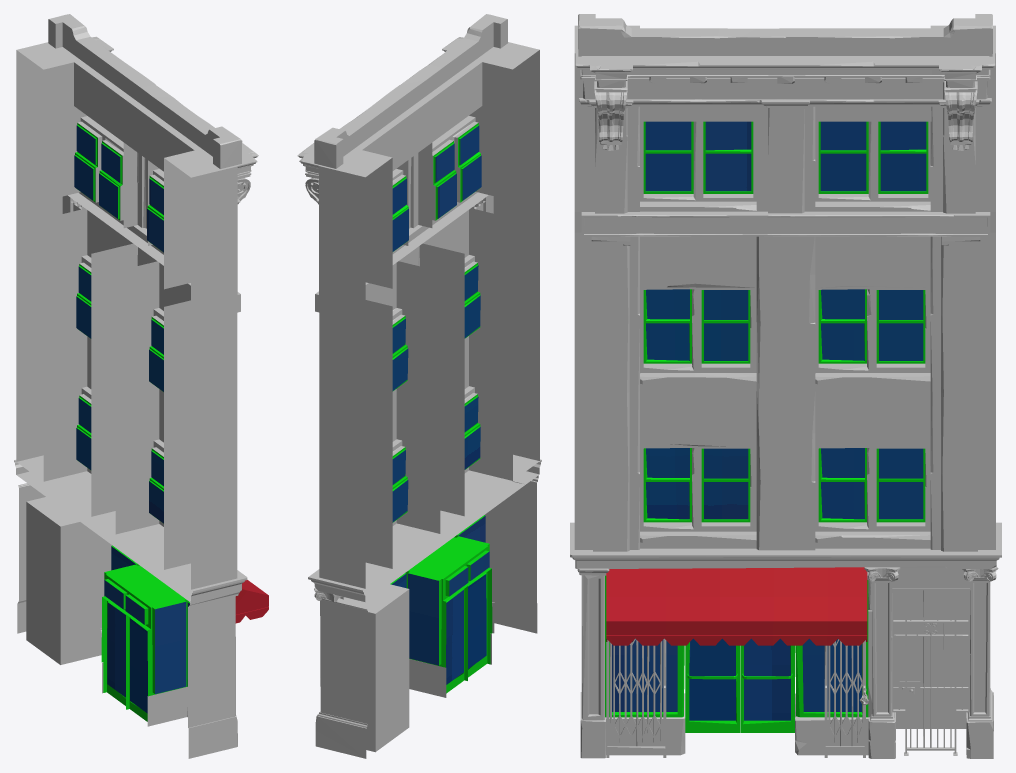
Rendered from Building00.fbx.
3 views of the same model, side by side, from view 1: azimuth 30°, elevation 25°; view 2: azimuth 150°, elevation 25°; view 3: azimuth 270°, elevation 25° (orthographic). The views are drawn at different scales.
Visible parts, largest first — view 1: SM_City_Building_01.mo; view 2: SM_City_Building_01.mo; view 3: SM_City_Building_01.mo.
Part boxes in pixels (box(x1,y1,x2,y2)): SM_City_Building_01.mo: box(14, 14, 268, 758); SM_City_Building_01.mo: box(297, 14, 541, 758); SM_City_Building_01.mo: box(570, 14, 1001, 758).
Size of the model in its own units: 217 by 1386 by 740.
